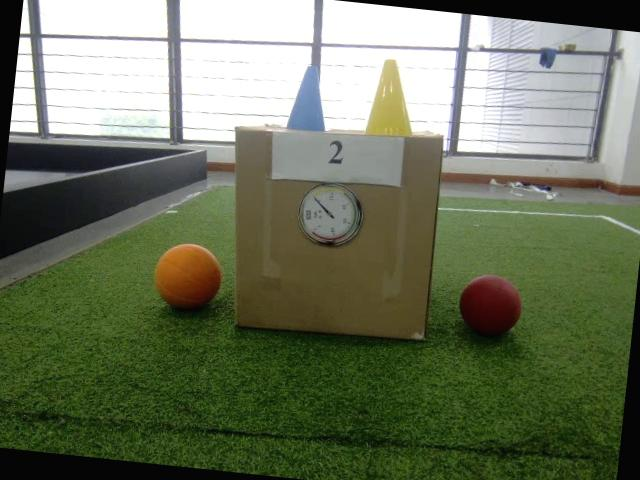2: (327, 139, 346, 165)
Dashboard: (295, 180, 366, 250)
blue_barrel: (286, 63, 332, 133)
orange_ball: (150, 239, 226, 314)
red_ball: (455, 272, 526, 340)
ssi: (306, 210, 312, 220)
yellow_barrel: (364, 55, 422, 140)
